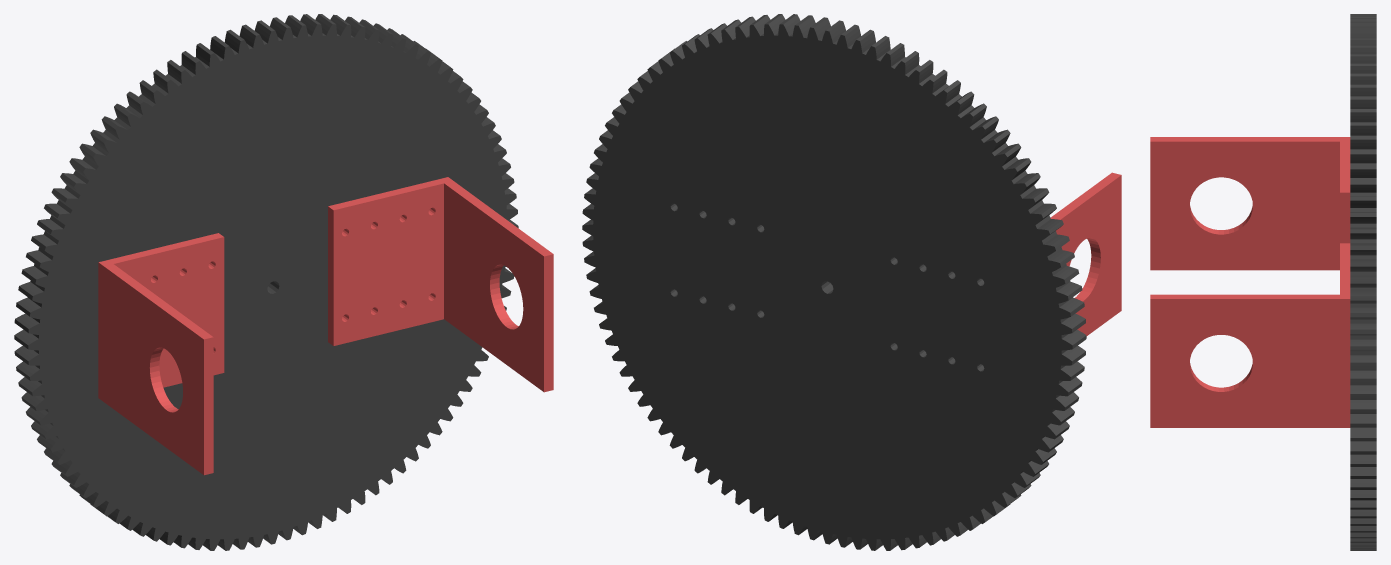
The model's file is base_gear.obj.
The picture shows the model from 3 angles, left to right: view 1: azimuth 30°, elevation 25°; view 2: azimuth 150°, elevation 25°; view 3: azimuth 270°, elevation 25°; orthographic projection. The views are drawn at different scales.
Parts seen in each view (by area): view 1: メッシュ フィーチャ1_1, メッシュ フィーチャ1_2, メッシュ フィーチャ1_3; view 2: メッシュ フィーチャ1_1, メッシュ フィーチャ1_3; view 3: メッシュ フィーチャ1_2, メッシュ フィーチャ1_3, メッシュ フィーチャ1_1.
Boxes of the visible parts, box(x1,y1,x2,y2) form: メッシュ フィーチャ1_1: box(14, 14, 518, 550); メッシュ フィーチャ1_2: box(328, 177, 553, 392); メッシュ フィーチャ1_3: box(98, 233, 224, 475); メッシュ フィーチャ1_1: box(582, 14, 1086, 550); メッシュ フィーチャ1_3: box(1050, 172, 1121, 335); メッシュ フィーチャ1_2: box(1150, 243, 1350, 427); メッシュ フィーチャ1_3: box(1150, 137, 1350, 270); メッシュ フィーチャ1_1: box(1350, 14, 1376, 550).
Bounding box in the file's own units: 204 × 204 × 86.
